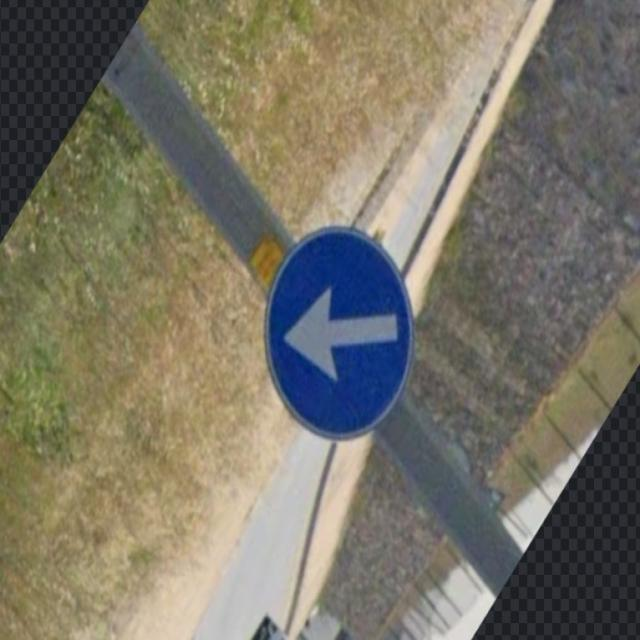Turn Left: (267, 229, 414, 443)
